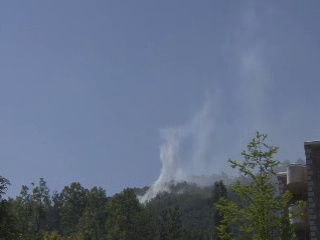smoke: (206, 46, 264, 186), (136, 118, 209, 203)
